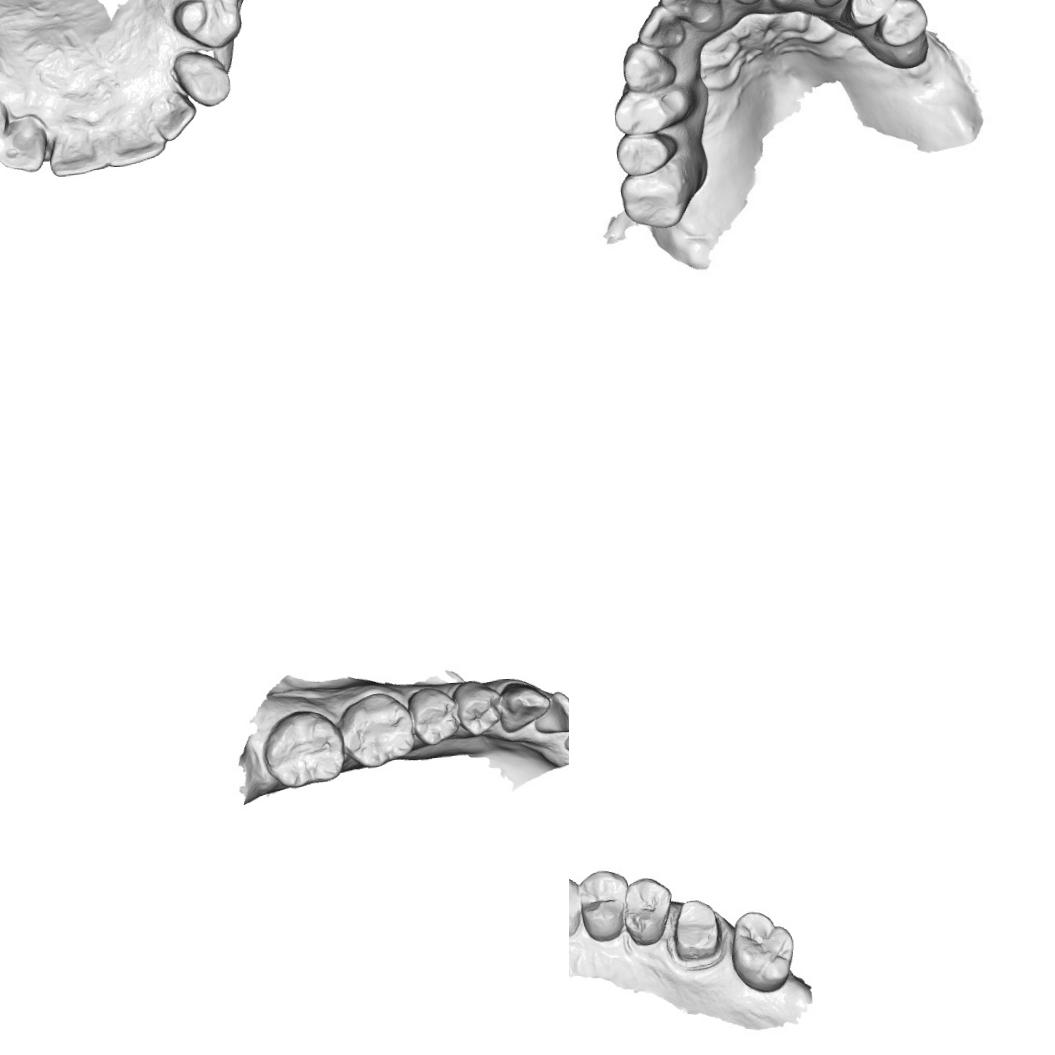canine: (172, 46, 238, 108), (494, 678, 553, 734), (616, 42, 674, 90), (569, 872, 587, 941)
crown: (666, 896, 726, 968)
incisor: (100, 114, 170, 170), (42, 122, 111, 178), (0, 112, 49, 174), (151, 84, 200, 144), (634, 1, 682, 48), (531, 687, 569, 738), (656, 0, 721, 28)
molar: (259, 707, 348, 792), (335, 687, 420, 771), (728, 905, 800, 994), (619, 164, 692, 230)
premolar: (577, 864, 637, 946), (618, 872, 674, 950), (407, 678, 464, 748), (169, 0, 244, 53), (451, 674, 508, 739), (614, 127, 676, 176), (611, 88, 673, 136), (875, 0, 926, 50), (843, 0, 896, 26)
